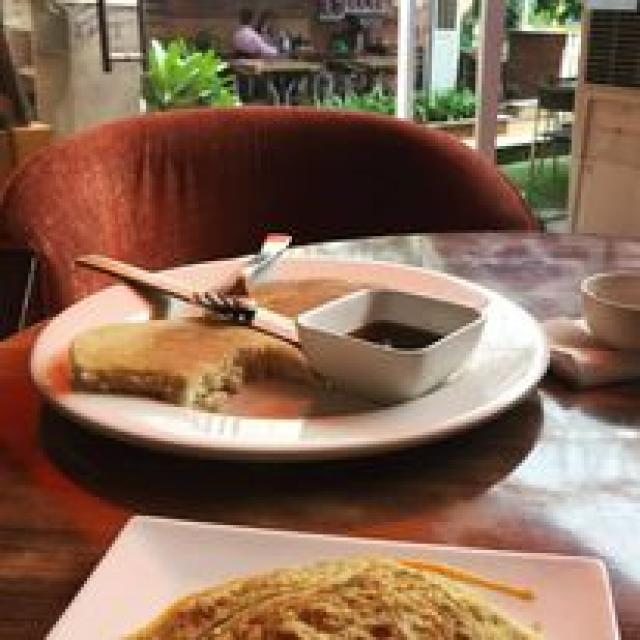Omelette: (115, 547, 541, 637)
Pancakes: (62, 273, 423, 410)
